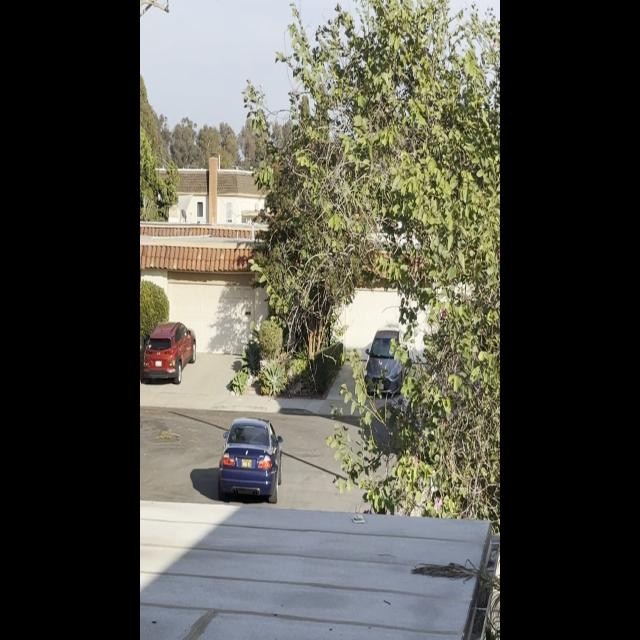Carbeetle: (207, 410, 287, 509)
Civilian: (140, 318, 199, 383), (363, 320, 409, 403)
